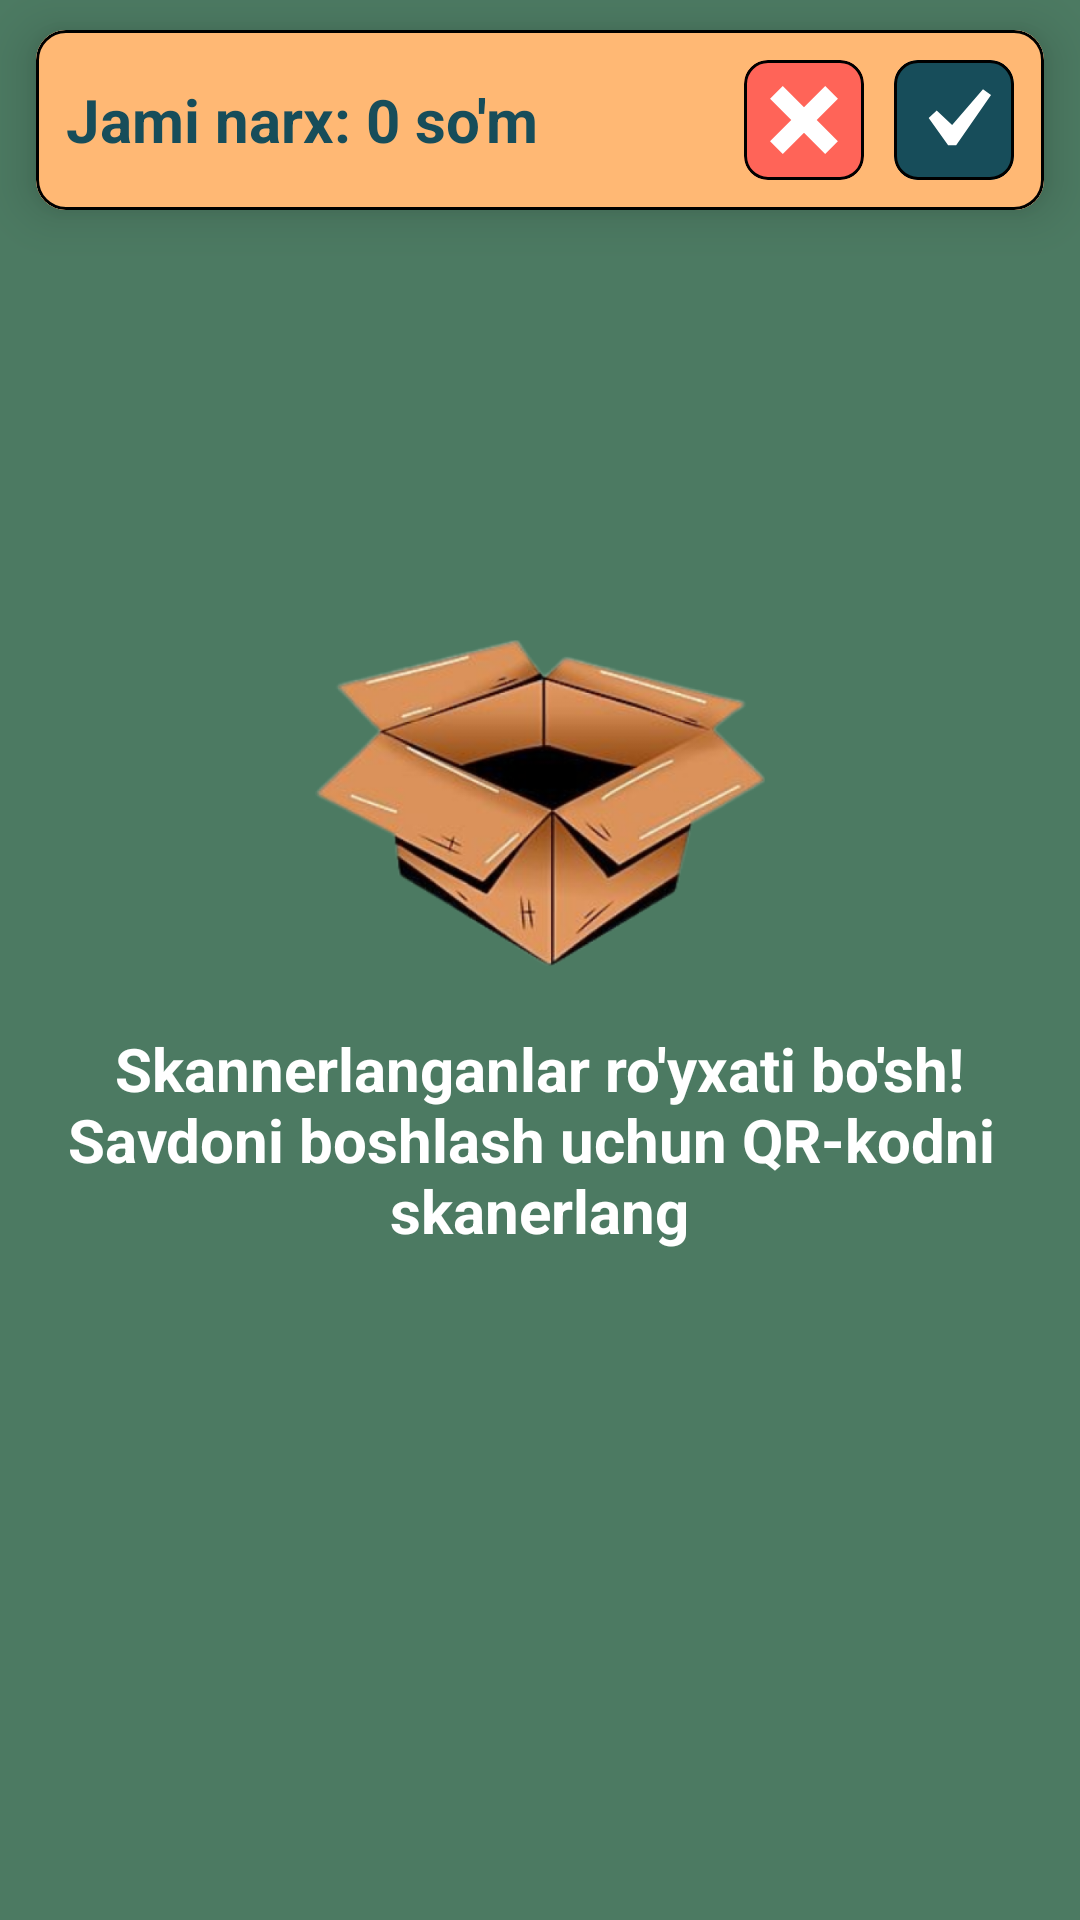

Locate icon controls on the screen. Image size 1080 × 1920, boxes as (left=x1, top=y1, right=x2, bottom=y2).
false: (left=744, top=60, right=864, bottom=180)
yes: (left=894, top=60, right=1014, bottom=180)
